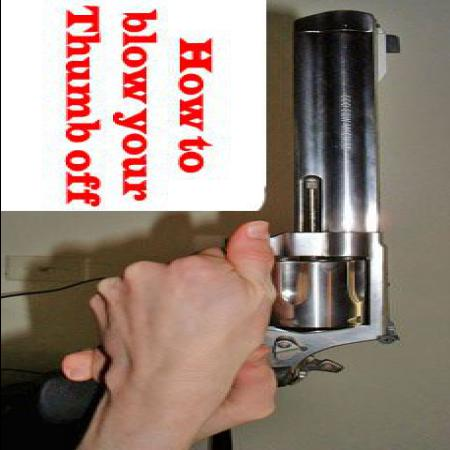Pistol: (41, 6, 411, 424)
